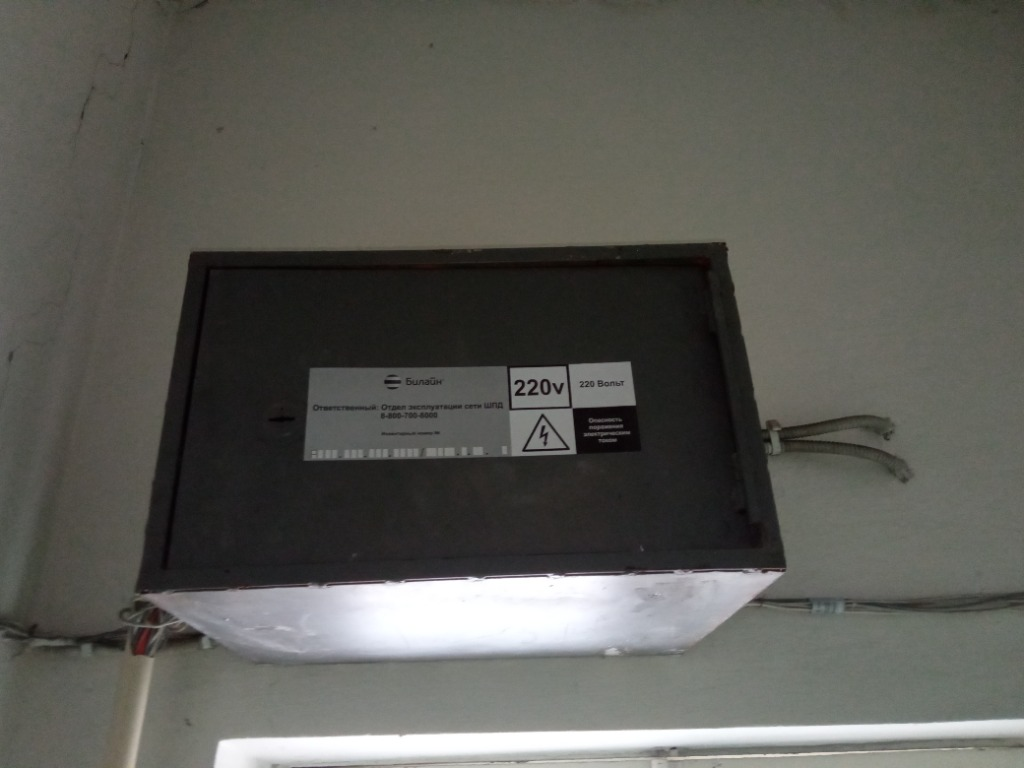e2-6u: (131, 237, 792, 667)
